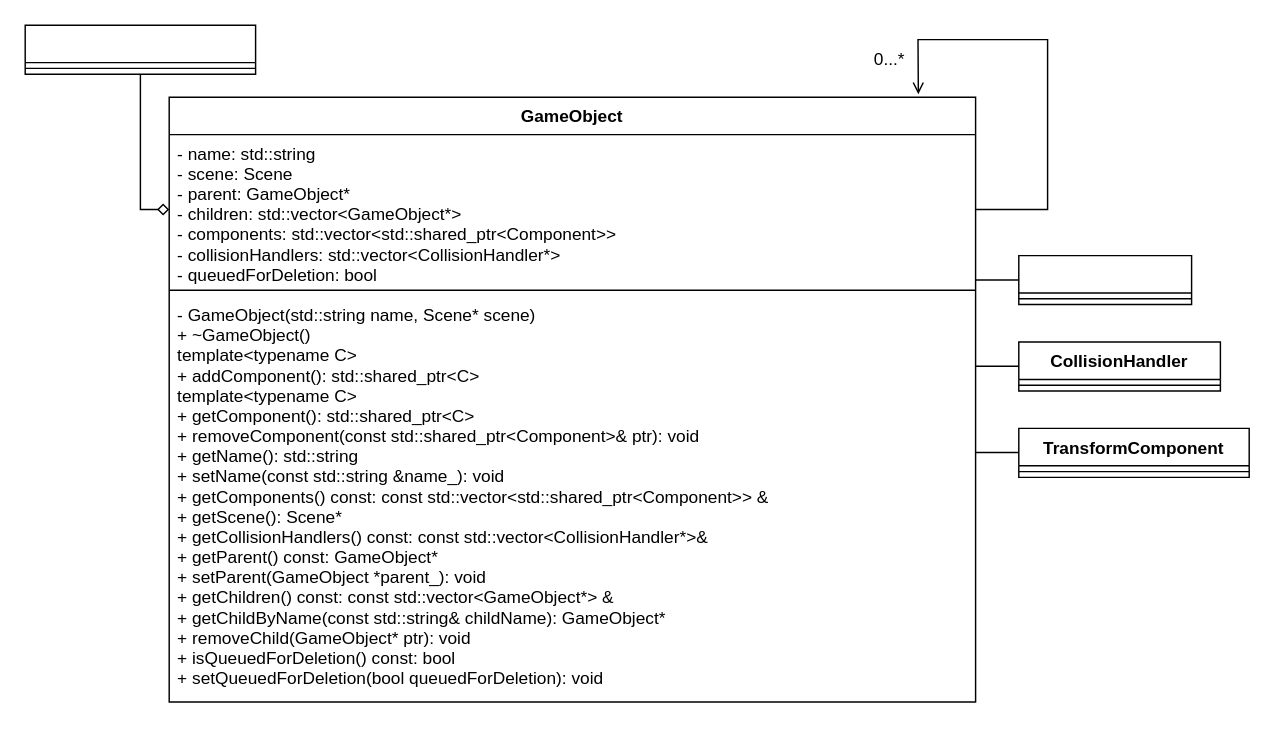
Some shapes in this 1274 by 732 pixel diagram are drawn without their labels. Each missing label, with the centre of its shape:
Component: the point at 140,49
Scene: the point at 1104,279
